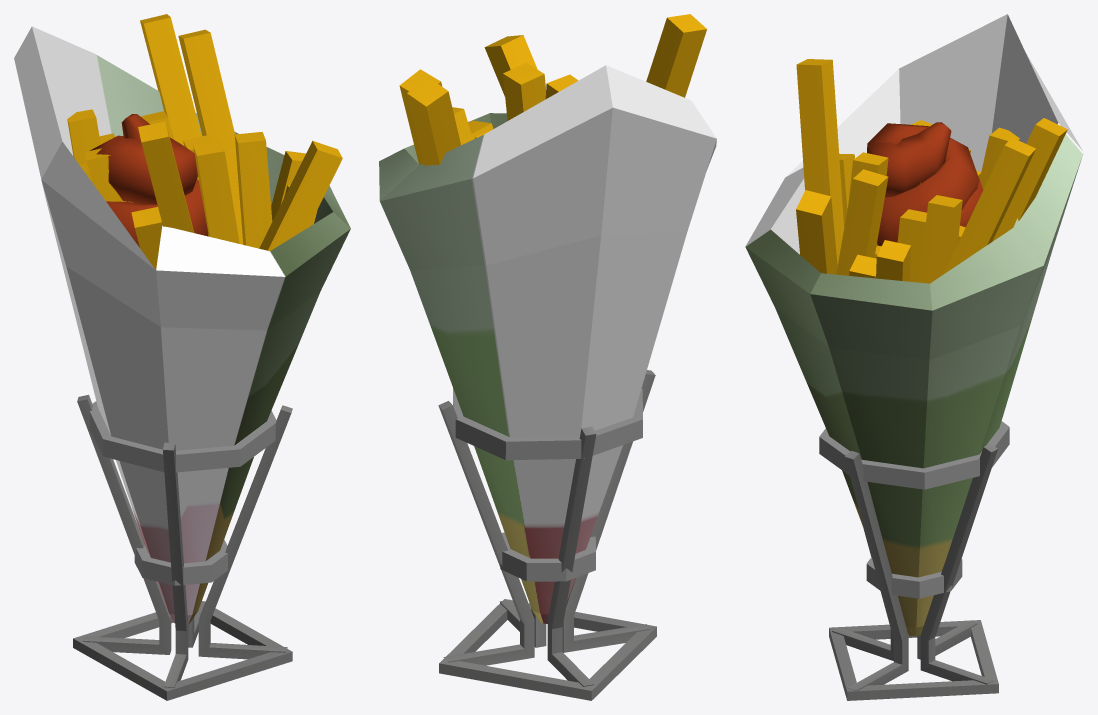
Rendered from 3D_dishe_Items_Fries-cornet.fbx.
3 renders of one model, left to right at view 1: azimuth 30°, elevation 25°; view 2: azimuth 150°, elevation 25°; view 3: azimuth 270°, elevation 25°, orthographic. The views are drawn at different scales.
Parts seen in each view (by area): view 1: 3D_dishe_Items_Fries-cornet; view 2: 3D_dishe_Items_Fries-cornet; view 3: 3D_dishe_Items_Fries-cornet.
Part boxes in pixels (<box>): 3D_dishe_Items_Fries-cornet: <box>14,14,350,700</box>; 3D_dishe_Items_Fries-cornet: <box>379,14,716,700</box>; 3D_dishe_Items_Fries-cornet: <box>745,14,1083,700</box>.
Bounding box in the file's own units: 40.76 × 80 × 40.76.
